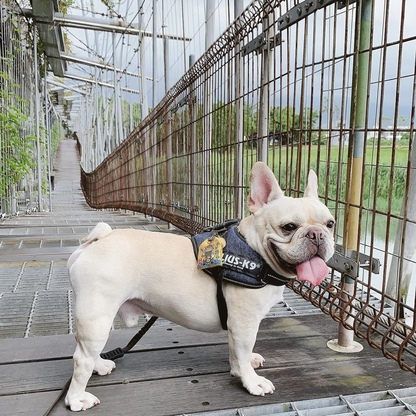bulldog: (62, 158, 338, 412)
